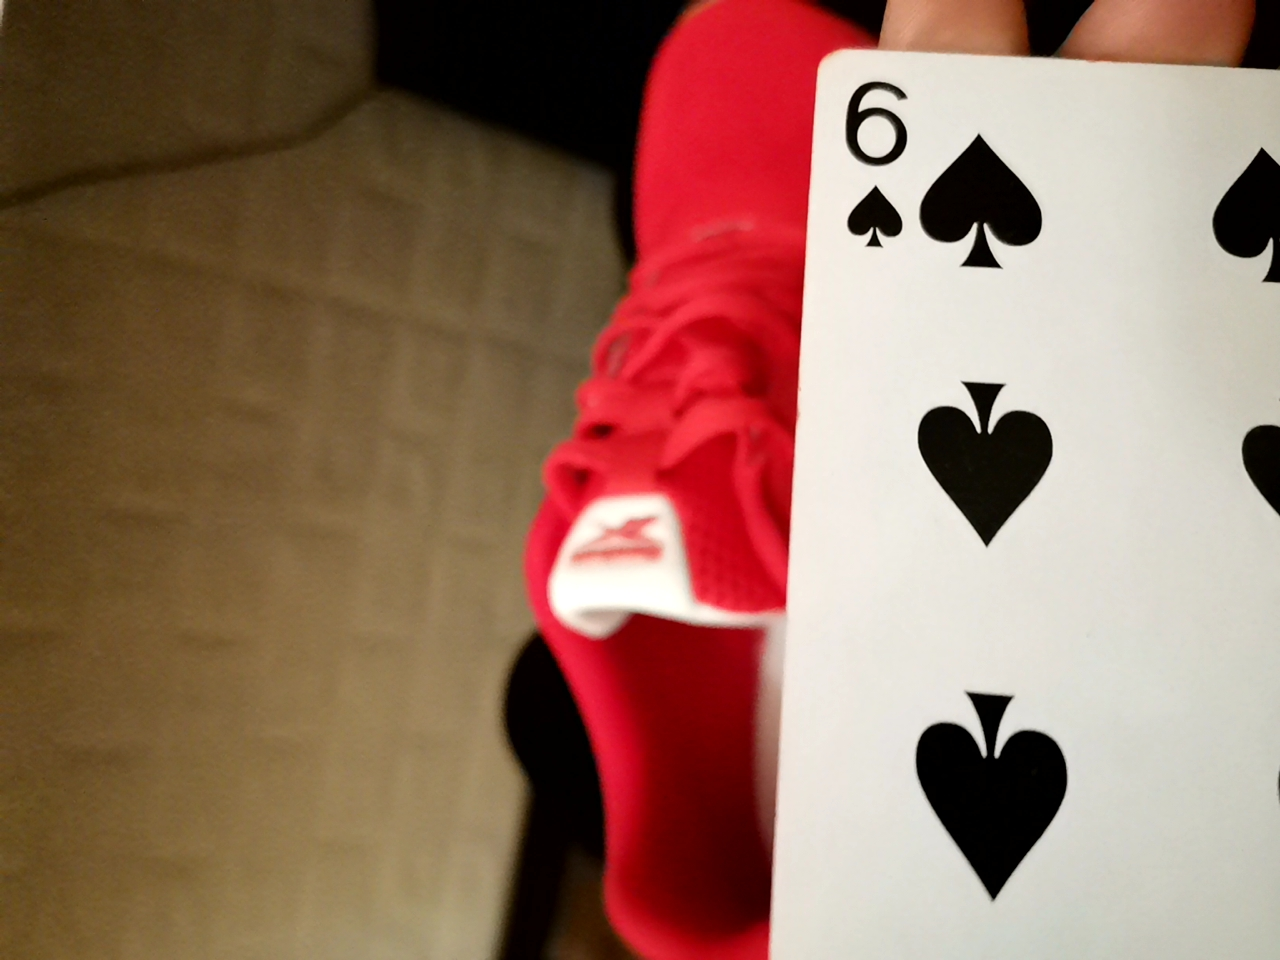ht 6: (757, 28, 1269, 960)
